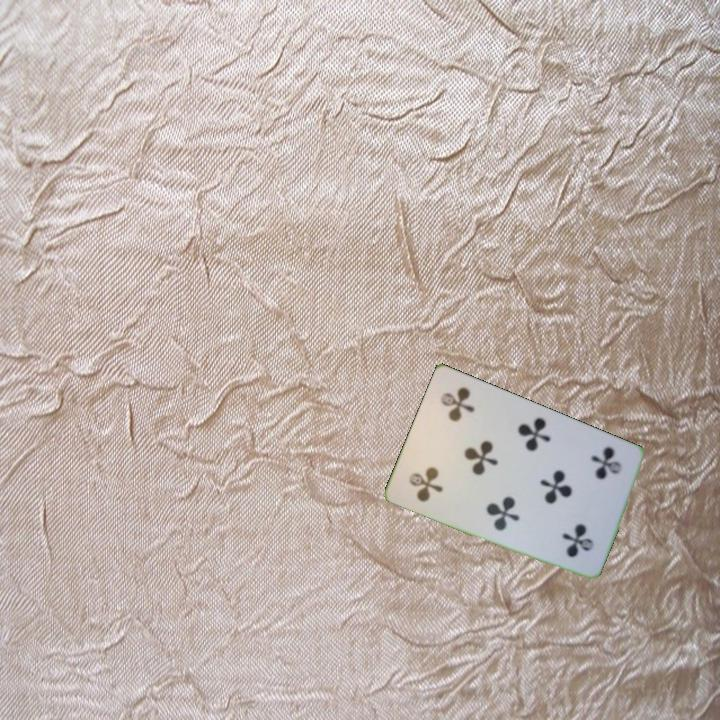c_8.png: (560, 434, 637, 517), (395, 432, 472, 514)
